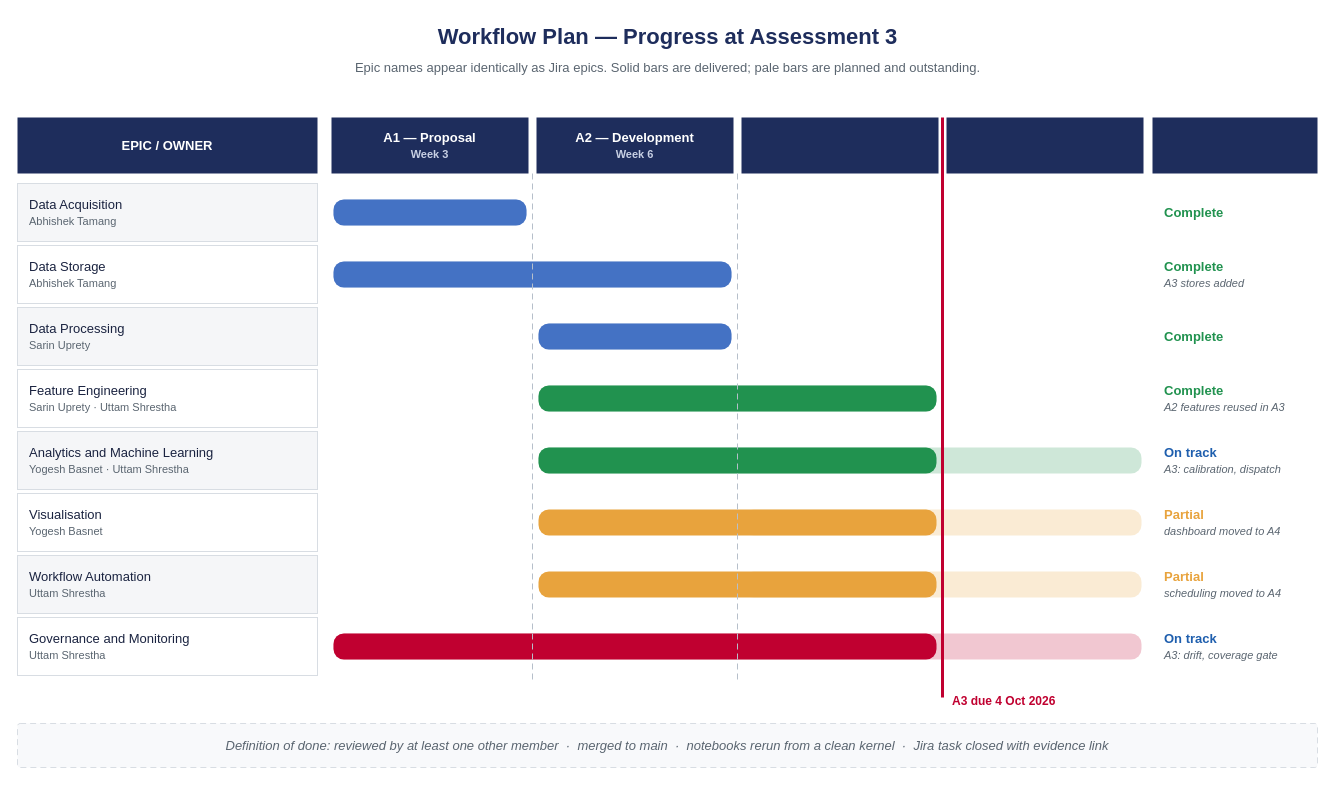
This 1335x785 diagram has some shape labels left out. The shapes that lost their labels are listed below. From the top down, each one's centre as x and y in pixels, then its label:
(839,145): A3 — Demonstration Week 9
(1044,145): A4 — Final Report Week 12
(1234,145): A3 STATUS
